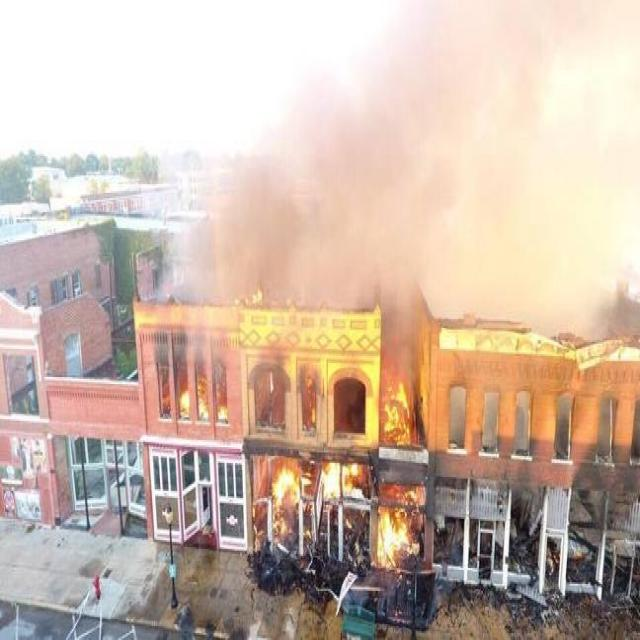smoke: (336, 41, 630, 311)
